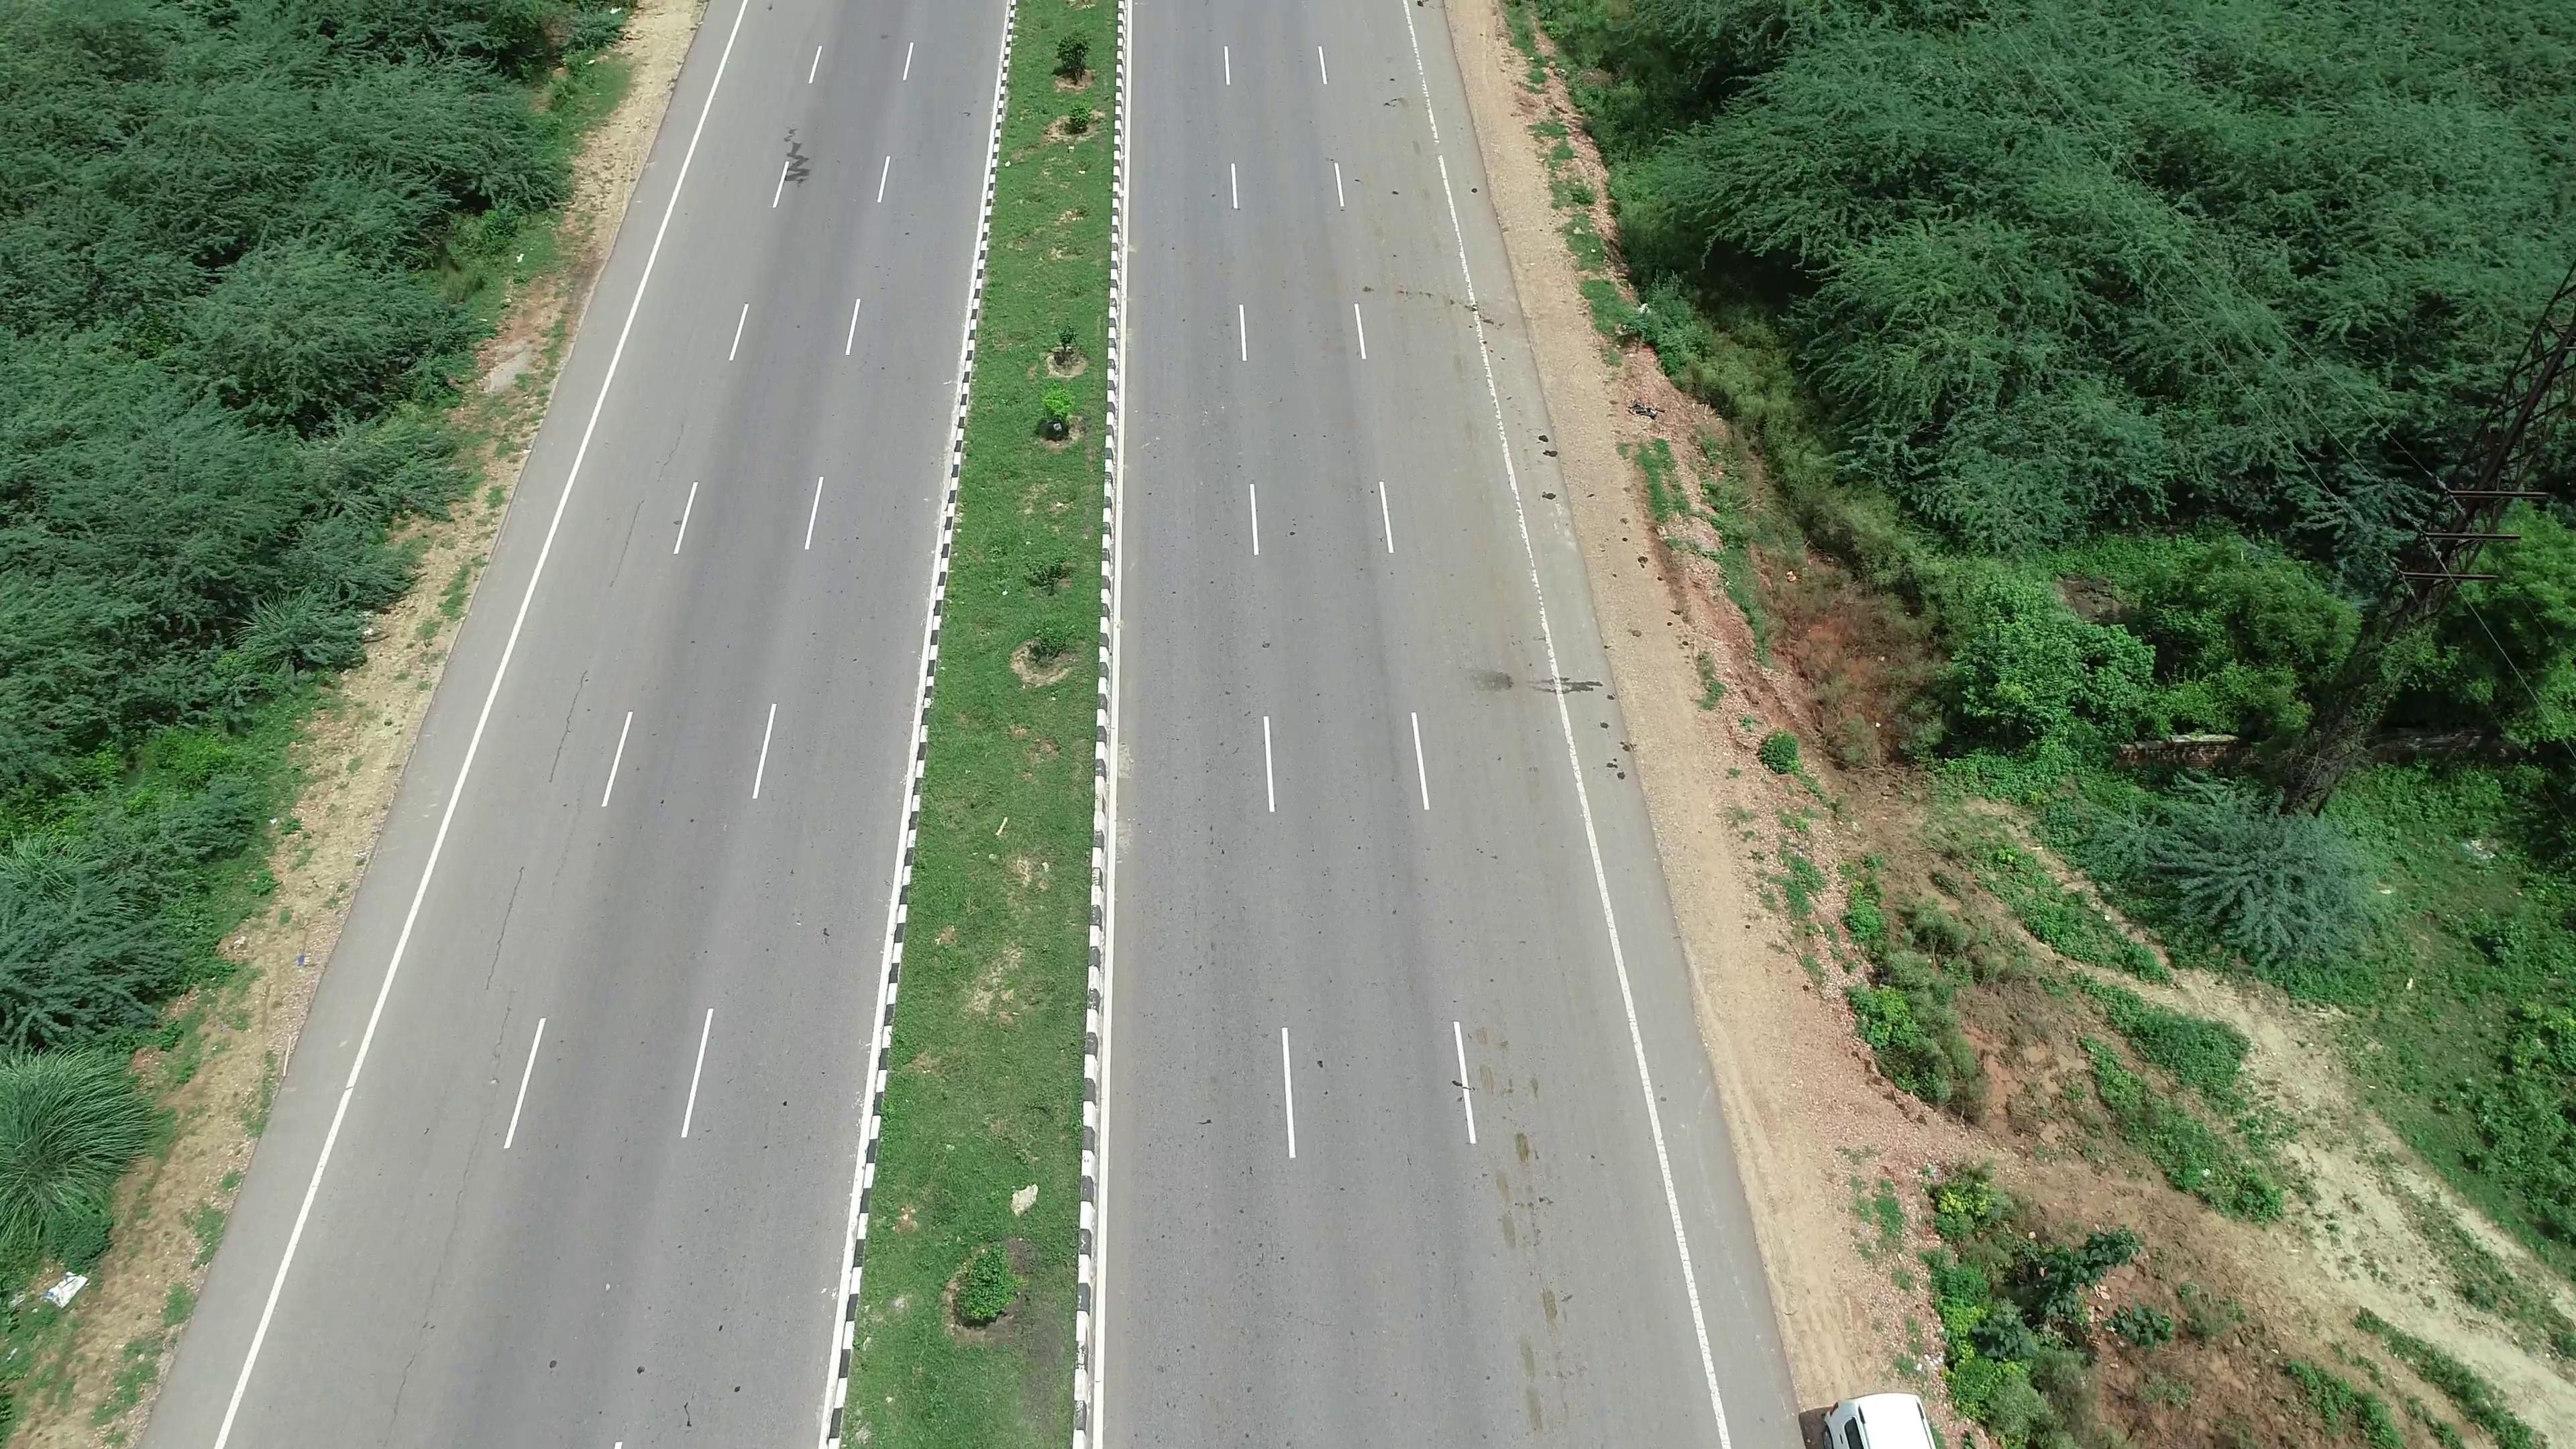Longitudinal_cracks: (600, 428, 692, 605), (469, 863, 540, 1001), (540, 669, 596, 789)
